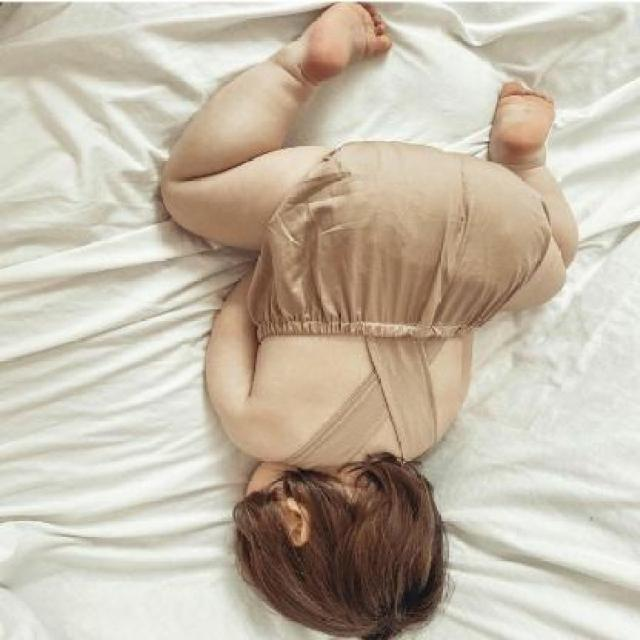baby: (160, 3, 574, 640)
